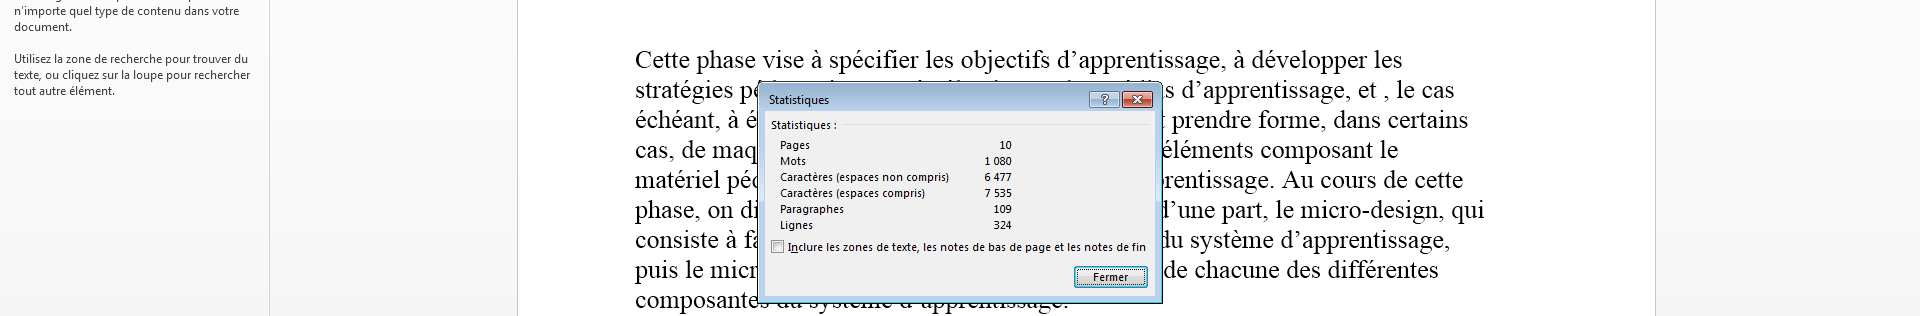texte: (1182, 80, 1349, 104), (1281, 230, 1449, 254), (1058, 50, 1224, 73), (1385, 92, 1467, 138), (1300, 200, 1442, 224), (961, 50, 1049, 87), (1251, 50, 1367, 73), (1164, 170, 1273, 194), (636, 292, 748, 314), (1261, 142, 1373, 164), (636, 80, 732, 104), (765, 78, 831, 111), (830, 50, 918, 73), (1329, 260, 1438, 278), (1191, 230, 1273, 254), (1172, 110, 1251, 134), (636, 110, 735, 129), (1075, 266, 1149, 288), (1166, 140, 1253, 158), (636, 200, 699, 224), (1195, 260, 1280, 278), (636, 170, 720, 187), (111, 54, 229, 66), (636, 230, 718, 247), (697, 50, 756, 73), (1259, 110, 1325, 130), (193, 44, 231, 72), (636, 260, 677, 284), (926, 50, 953, 86), (1222, 203, 1267, 224), (891, 227, 920, 260), (636, 51, 689, 69), (15, 0, 65, 18), (1333, 110, 1380, 129), (845, 227, 871, 260), (710, 260, 756, 278), (1452, 200, 1484, 224), (1416, 171, 1463, 187), (763, 50, 803, 69), (1172, 201, 1215, 218), (781, 205, 842, 216), (773, 240, 822, 254), (167, 44, 189, 72), (1321, 176, 1376, 187), (1287, 260, 1320, 278), (740, 85, 769, 104), (771, 121, 830, 131), (727, 170, 751, 194), (1359, 83, 1389, 102), (1282, 171, 1314, 187), (1375, 50, 1402, 69), (781, 171, 831, 181), (781, 187, 831, 197), (1056, 243, 1112, 251), (195, 70, 250, 78), (636, 146, 673, 158), (15, 22, 69, 31), (744, 230, 771, 247), (62, 70, 99, 82), (682, 140, 705, 158), (15, 54, 62, 62), (70, 86, 111, 96), (883, 189, 924, 198), (1164, 260, 1187, 278), (1384, 170, 1407, 187), (838, 173, 878, 182), (907, 173, 948, 182), (838, 189, 878, 198), (922, 303, 958, 314), (713, 146, 743, 158), (1423, 86, 1453, 98), (133, 70, 163, 82), (781, 220, 812, 231), (1380, 140, 1398, 158), (1150, 85, 1174, 98), (708, 206, 733, 218), (686, 260, 703, 278), (1397, 80, 1414, 98), (1276, 200, 1293, 218), (138, 7, 180, 15), (1382, 76, 1391, 109), (781, 141, 809, 151), (729, 107, 737, 138), (767, 227, 775, 258), (13, 71, 40, 81), (70, 6, 91, 18), (96, 7, 118, 18), (940, 243, 969, 251), (1117, 243, 1145, 251), (984, 157, 1011, 165), (984, 173, 1011, 181), (984, 189, 1011, 197), (741, 200, 753, 218), (167, 73, 191, 82), (1026, 245, 1051, 254), (55, 44, 62, 72), (816, 298, 827, 316), (185, 6, 208, 15), (40, 87, 64, 96), (781, 157, 804, 165), (13, 87, 36, 96), (214, 7, 239, 15), (1234, 50, 1244, 69), (812, 50, 820, 69), (747, 110, 756, 129), (727, 230, 736, 247), (994, 205, 1011, 213), (994, 220, 1011, 229), (989, 243, 1005, 251), (1171, 236, 1183, 247), (883, 175, 902, 181), (69, 58, 91, 62), (235, 54, 247, 62), (827, 243, 839, 251), (122, 6, 133, 15), (1000, 141, 1011, 149), (877, 243, 888, 251), (924, 243, 936, 251), (973, 243, 984, 251), (1010, 243, 1021, 251), (96, 54, 105, 62), (103, 73, 118, 78), (47, 73, 58, 78), (122, 70, 129, 78)
